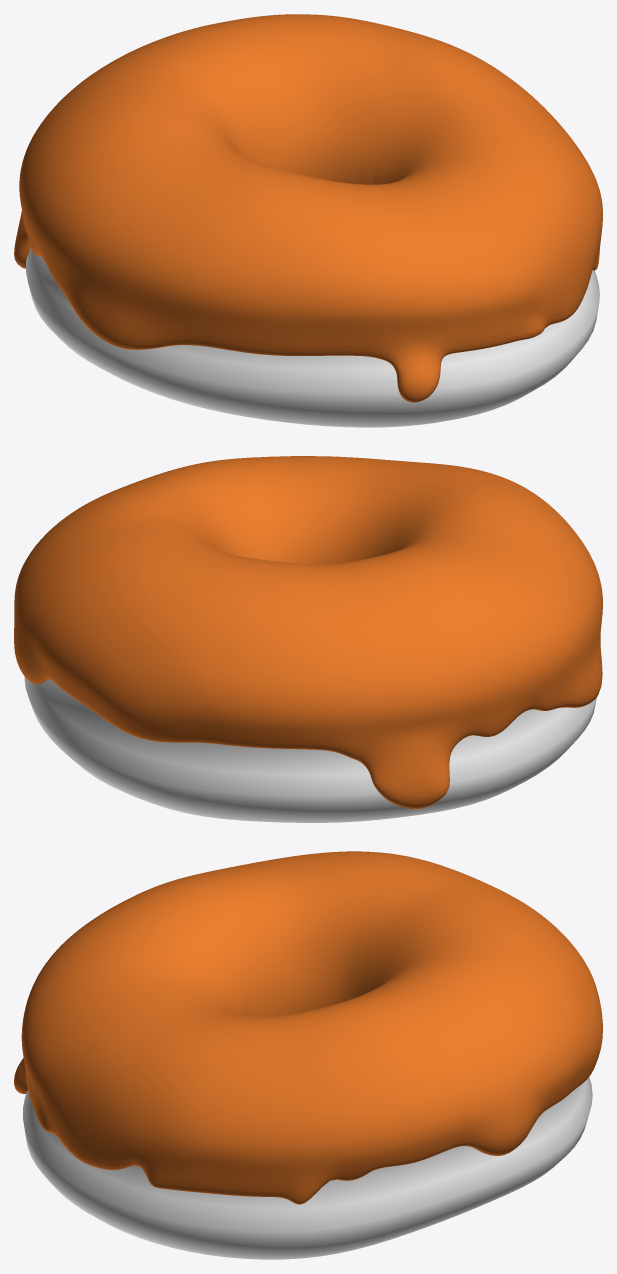
The model's file is Myfirstdonut.glb.
3 renders of one model, top to bottom at view 1: azimuth 30°, elevation 25°; view 2: azimuth 150°, elevation 25°; view 3: azimuth 270°, elevation 25°, orthographic. The views are drawn at different scales.
Parts seen in each view (by area): view 1: Icing, Doughnut; view 2: Icing, Doughnut; view 3: Icing, Doughnut.
Part boxes in pixels (bbox=[...]): Icing: bbox=[14, 14, 602, 402]; Doughnut: bbox=[26, 247, 599, 427]; Icing: bbox=[14, 456, 602, 808]; Doughnut: bbox=[24, 677, 596, 822]; Icing: bbox=[14, 851, 602, 1204]; Doughnut: bbox=[23, 1077, 592, 1259].
Bounding box in the file's own units: 0.0948 × 0.0443 × 0.0975.
